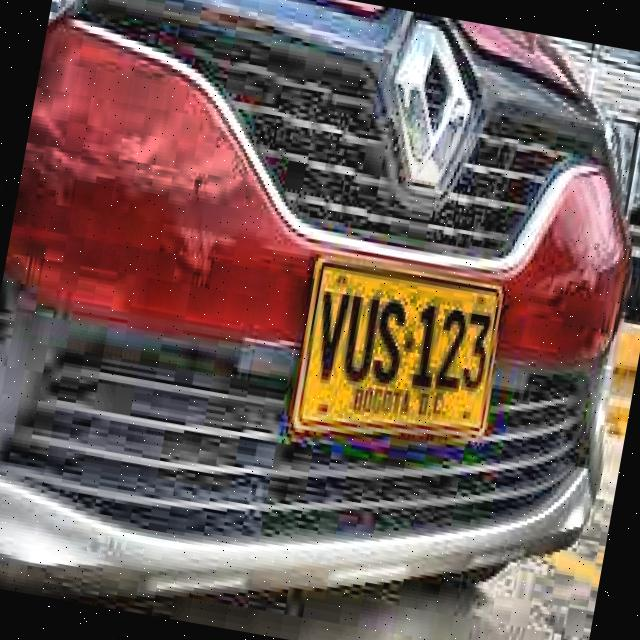plate: (296, 259, 500, 434)
